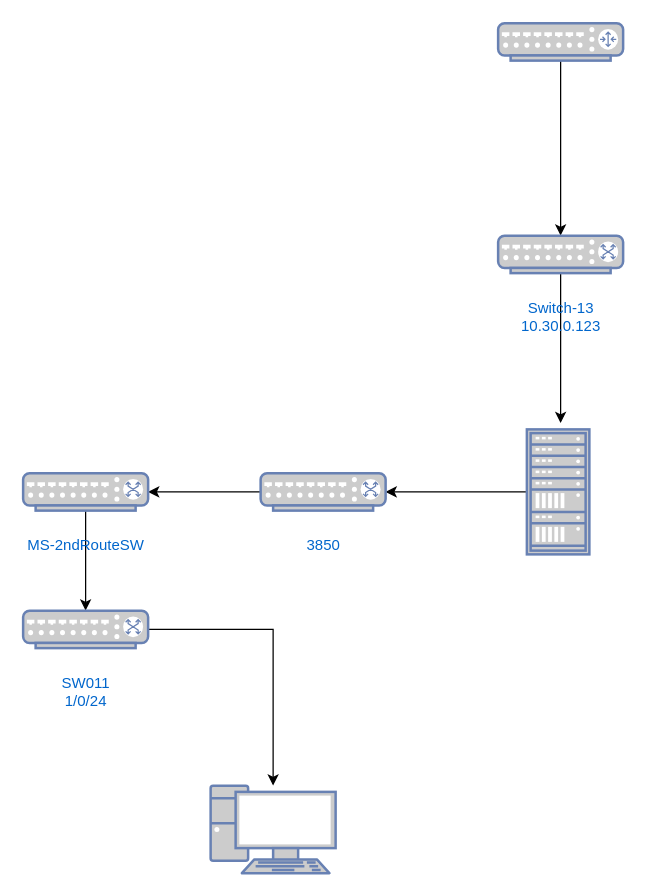
Image size: 646x895. Some labels were removed from this diagram. The centre of each missing label's shape, as x and y in pixels:
"4507 VLAN 776 NPA" belongs at (x=557, y=491).
"Cisco 4221 23YV005206(101) 227YV005207(251)" belongs at (x=560, y=41).
